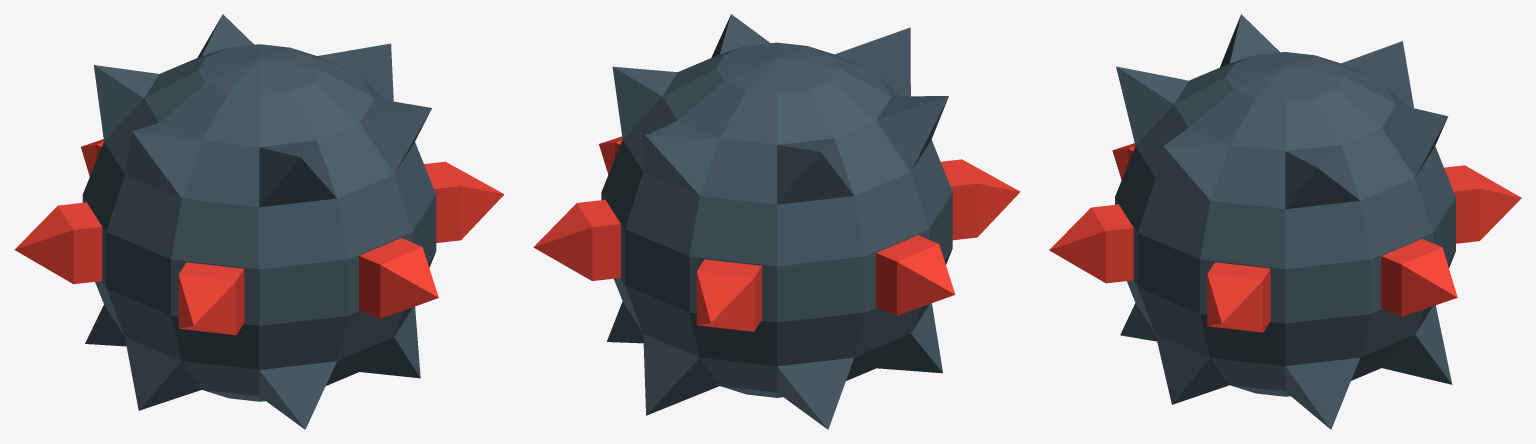
File: Spike Mine.glb
3 renders of one model, left to right at view 1: azimuth 30°, elevation 25°; view 2: azimuth 150°, elevation 25°; view 3: azimuth 270°, elevation 25°, orthographic. The views are drawn at different scales.
Parts seen in each view (by area): view 1: group450465863, group1270301541, group865683717, group611164287, group715062615; view 2: group450465863, group413415826, group1270301541, group874016818, group611164287, group715062615; view 3: group450465863, group865683717, group413415826, group715062615, group874016818.
Boxes of the visible parts, <box> form: group450465863: <box>82,14,436,429</box>; group1270301541: <box>14,202,102,284</box>; group865683717: <box>359,238,438,318</box>; group611164287: <box>178,262,244,335</box>; group715062615: <box>424,161,504,242</box>; group450465863: <box>601,14,952,429</box>; group413415826: <box>533,199,620,280</box>; group1270301541: <box>876,235,955,315</box>; group874016818: <box>696,259,761,331</box>; group611164287: <box>941,159,1020,240</box>; group715062615: <box>599,136,622,174</box>; group450465863: <box>1115,14,1455,429</box>; group865683717: <box>1049,204,1133,283</box>; group413415826: <box>1381,239,1457,316</box>; group715062615: <box>1207,262,1270,332</box>; group874016818: <box>1444,165,1521,243</box>.
Size of the model in its own units: 0.1639 by 0.12 by 0.1639.
